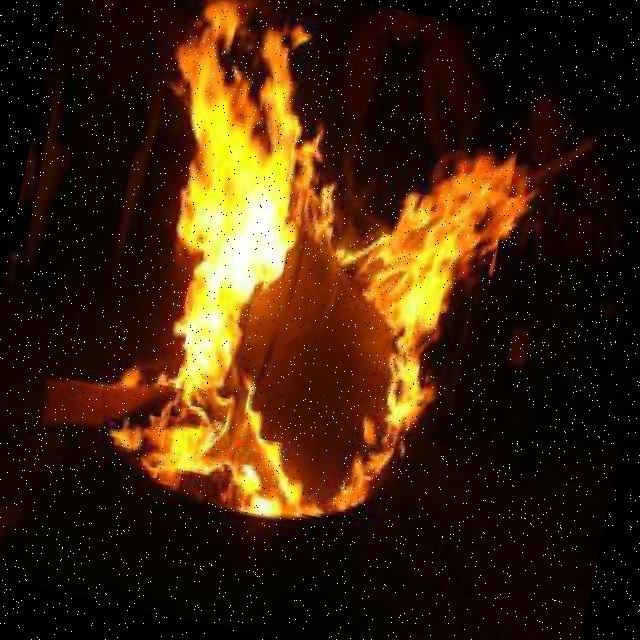fire: (65, 0, 540, 553)
